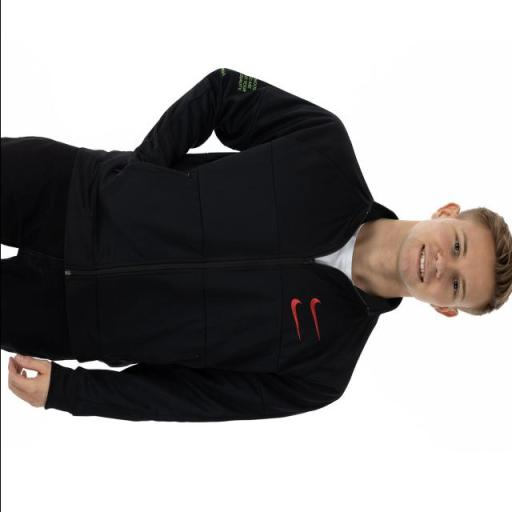Nike: (288, 298, 302, 343)
